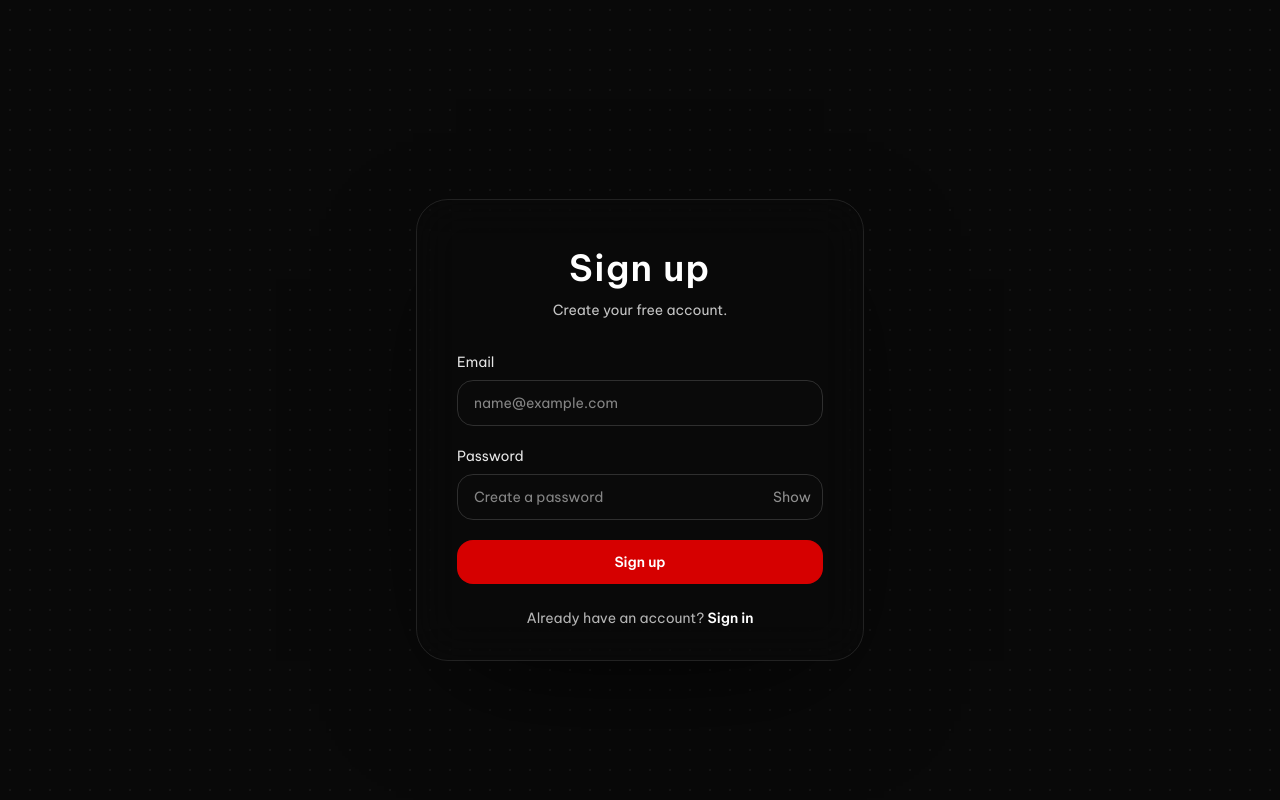
Test case: RegisterPage › toggles password visibility
This screenshot has width=1280, height=800.
Click the button "Show".
click(792, 497)  # box x1=773 y1=487 x2=811 y2=507
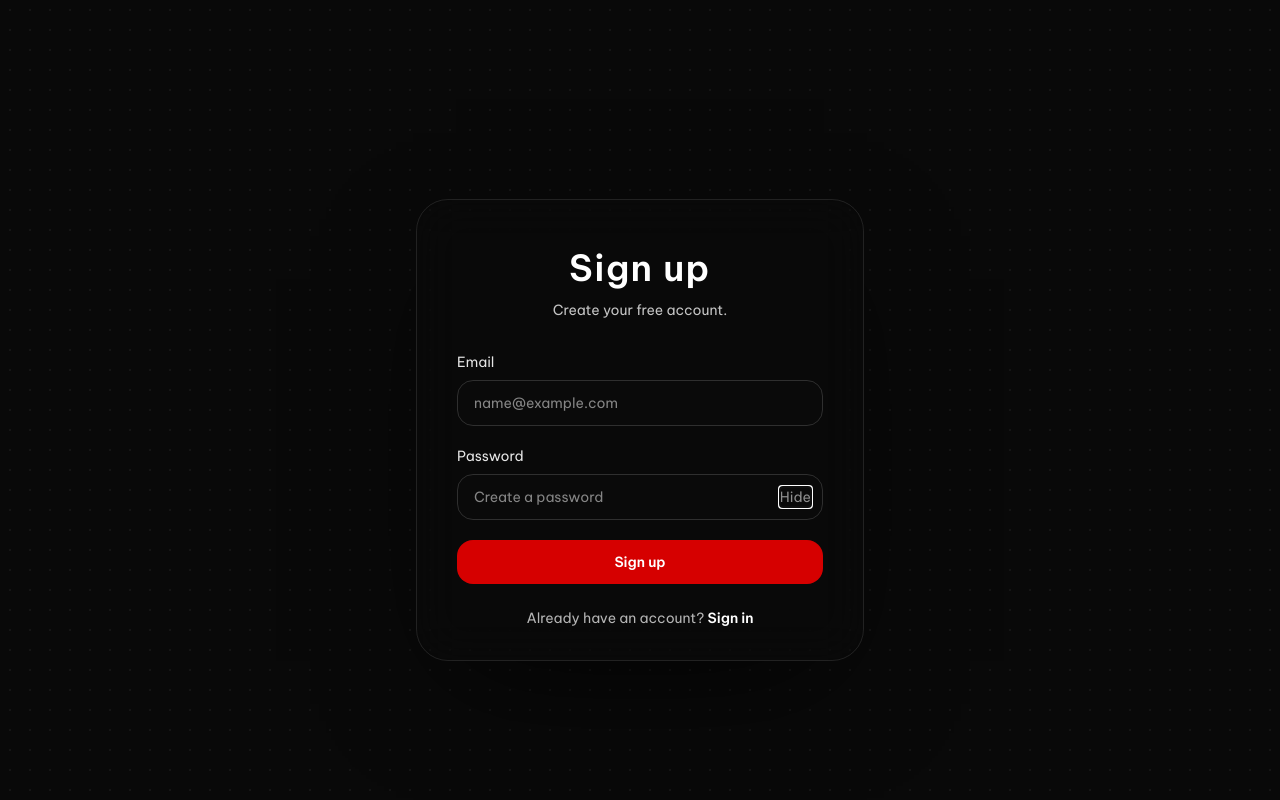
Now the button "Hide" is shown
Click the button "Hide".
click(795, 497)  # box x1=780 y1=487 x2=811 y2=507
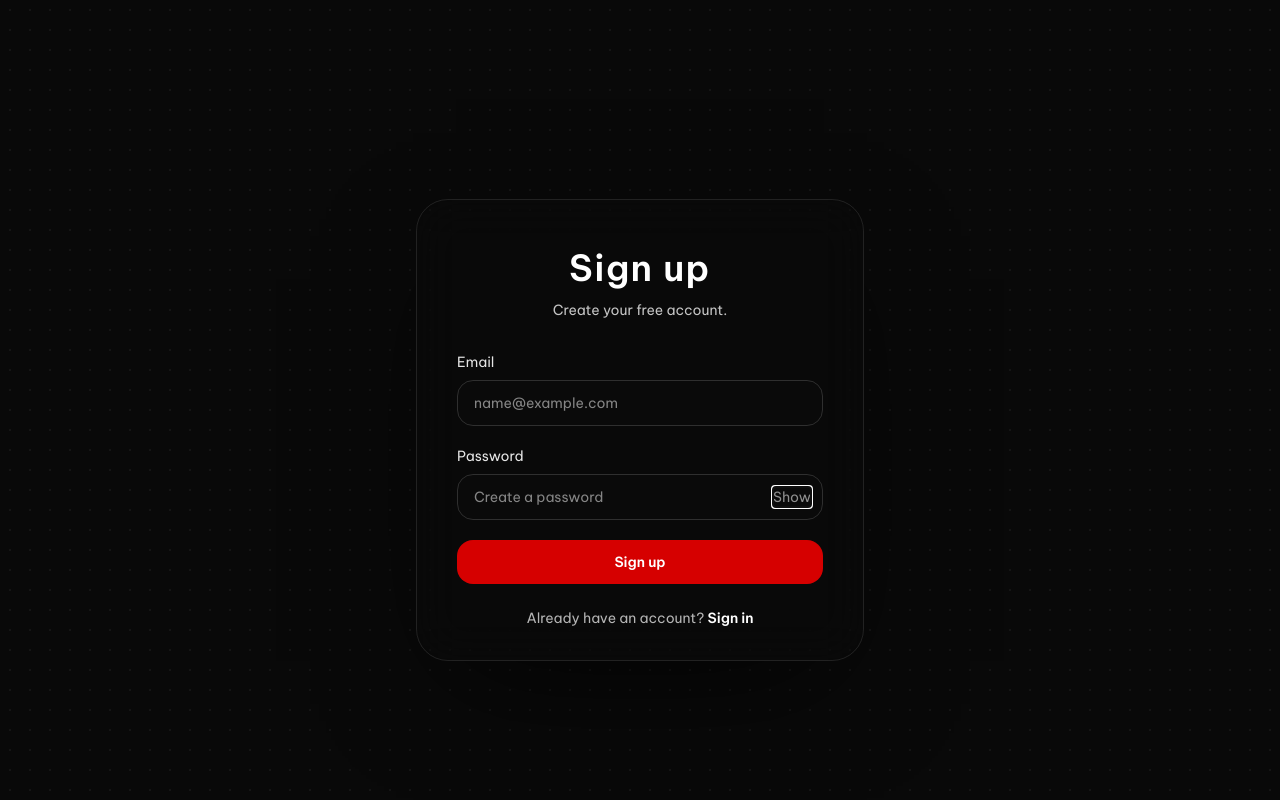
Now the button "Show" is shown, box x1=773 y1=487 x2=811 y2=507
